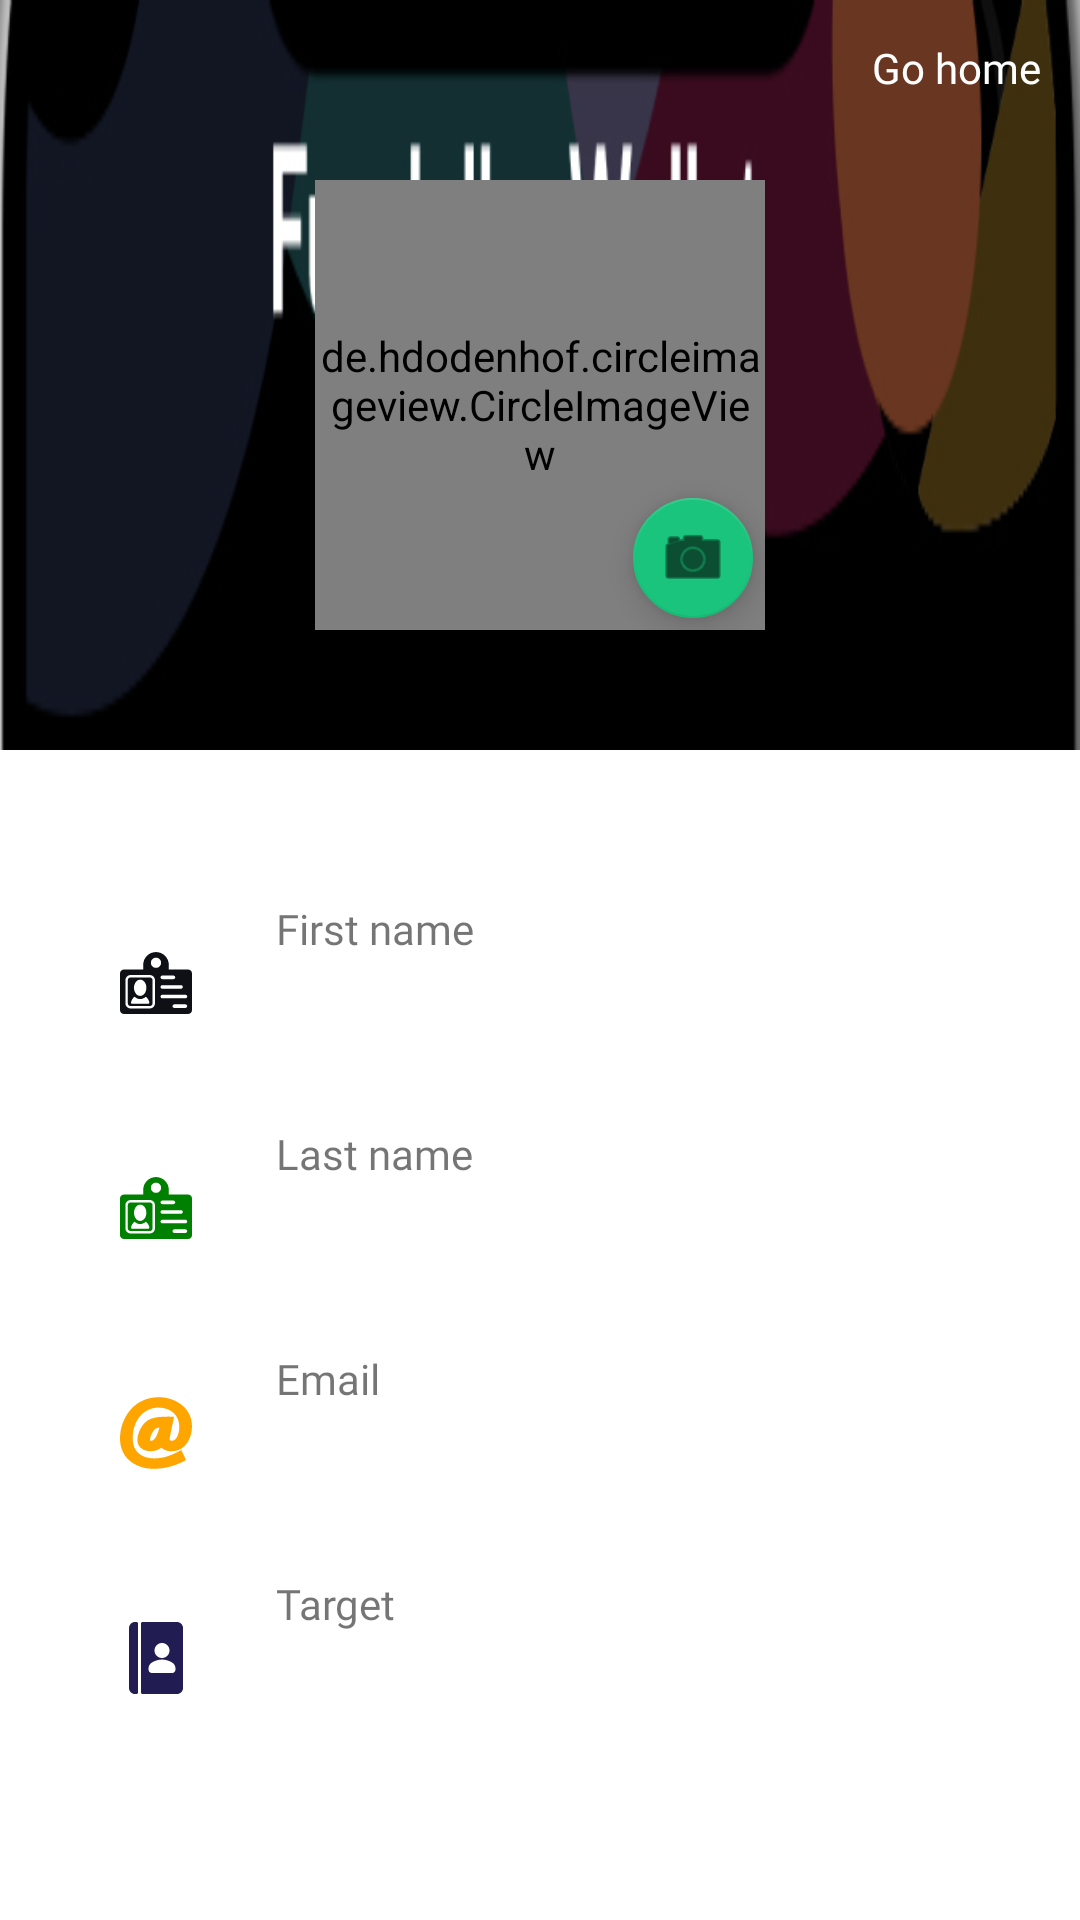

Screen size 1080 x 1920. Icon name, then its center in pixels as point (x, y):
address: point (156, 1658)
camera: point (693, 558)
